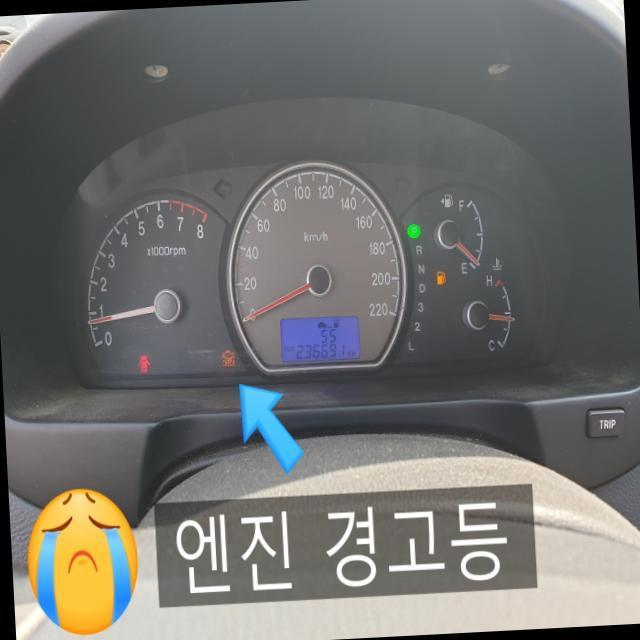Doors: (136, 354, 150, 373)
Low fuel level: (435, 268, 446, 284)
